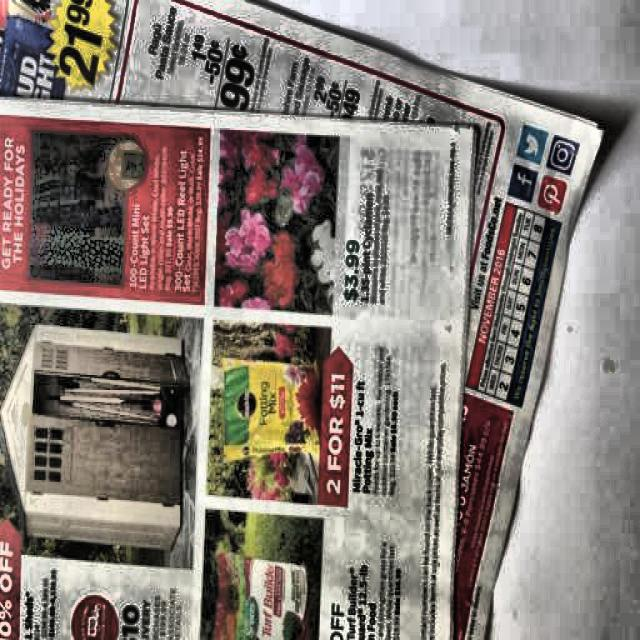paper: (0, 0, 602, 624)
